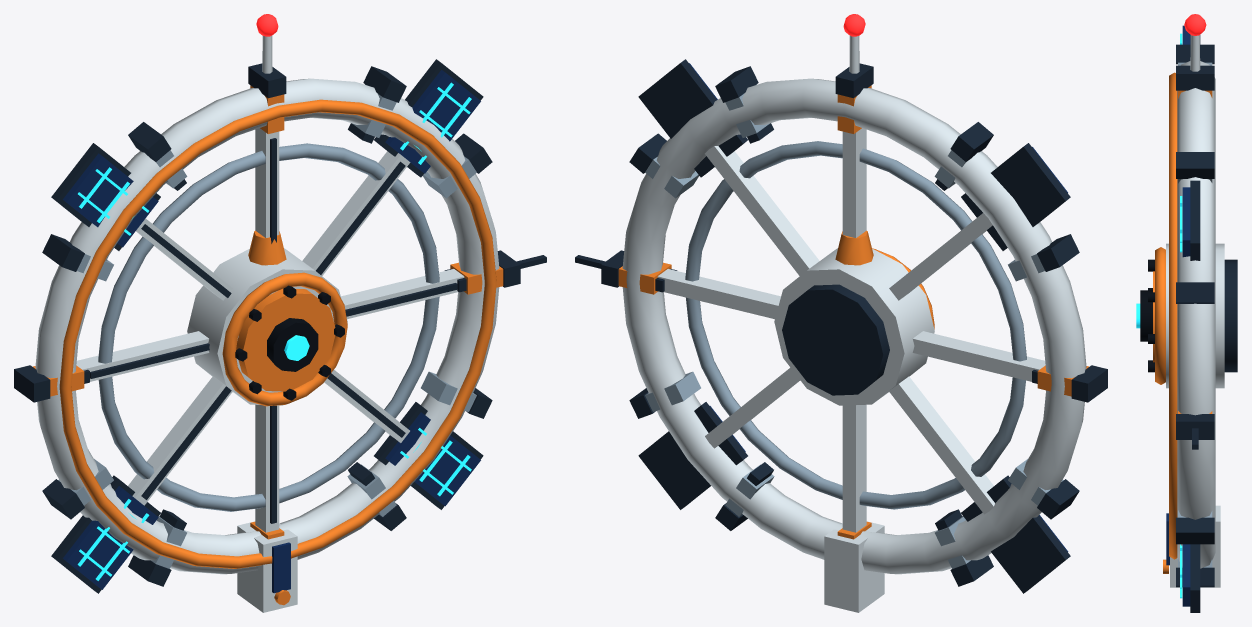
The model's file is asset.glb.
3 views of the same model, side by side, from view 1: azimuth 30°, elevation 25°; view 2: azimuth 150°, elevation 25°; view 3: azimuth 270°, elevation 25° (orthographic). The views are drawn at different scales.
Visible parts, largest first — view 1: Main_Orbital_Ring, Orange_Ring_Accent, Inner_Reinforcement_Ring, Front_Hub_Cap, Central_Communications_Hub, Hub_Safety_Band, Panel_Cells_3, Panel_Cells_1, Panel_Cells_2, Panel_Cells_4, Spoke_6, Spoke_2 (+30 smaller); view 2: Main_Orbital_Ring, Inner_Reinforcement_Ring, Rear_Hub_Cap, Central_Communications_Hub, Panel_Frame_1, Panel_Frame_3, Control_Module_Body, Spoke_6, Panel_Frame_2, Spoke_2, Panel_Frame_4, Spoke_7 (+15 smaller); view 3: Main_Orbital_Ring, Orange_Ring_Accent, Central_Communications_Hub, Rear_Hub_Cap, Hub_Safety_Band, Clamp_Cap_12, Clamp_Cap_3, Clamp_Cap_1, Clamp_Cap_4, Panel_Frame_1, Clamp_Cap_2, Control_Module_Body (+9 smaller).
Part boxes in pixels (left/top/right/bottom): Main_Orbital_Ring: left=35, top=78, right=499, bottom=574; Orange_Ring_Accent: left=59, top=99, right=496, bottom=568; Inner_Reinforcement_Ring: left=98, top=143, right=439, bottom=511; Front_Hub_Cap: left=236, top=288, right=335, bottom=391; Central_Communications_Hub: left=187, top=248, right=347, bottom=405; Hub_Safety_Band: left=222, top=272, right=347, bottom=406; Panel_Cells_3: left=63, top=486, right=158, bottom=589; Panel_Cells_1: left=385, top=70, right=480, bottom=173; Panel_Cells_2: left=63, top=153, right=158, bottom=247; Panel_Cells_4: left=385, top=412, right=480, bottom=506; Spoke_6: left=128, top=376, right=232, bottom=505; Spoke_2: left=302, top=151, right=410, bottom=275; Main_Orbital_Ring: left=622, top=78, right=1086, bottom=574; Inner_Reinforcement_Ring: left=685, top=141, right=1026, bottom=509; Rear_Hub_Cap: left=782, top=284, right=889, bottom=395; Central_Communications_Hub: left=774, top=248, right=934, bottom=405; Panel_Frame_1: left=638, top=59, right=747, bottom=177; Panel_Frame_3: left=961, top=475, right=1070, bottom=593; Control_Module_Body: left=824, top=521, right=884, bottom=612; Spoke_6: left=889, top=376, right=994, bottom=514; Panel_Frame_2: left=961, top=143, right=1070, bottom=250; Spoke_2: left=705, top=146, right=819, bottom=275; Panel_Frame_4: left=638, top=402, right=747, bottom=509; Spoke_7: left=842, top=404, right=866, bottom=532; Main_Orbital_Ring: left=1177, top=61, right=1215, bottom=568; Orange_Ring_Accent: left=1169, top=72, right=1177, bottom=559; Central_Communications_Hub: left=1166, top=243, right=1224, bottom=388; Rear_Hub_Cap: left=1224, top=259, right=1237, bottom=372; Hub_Safety_Band: left=1155, top=247, right=1165, bottom=384; Clamp_Cap_12: left=1176, top=517, right=1214, bottom=544; Clamp_Cap_3: left=1176, top=152, right=1214, bottom=178; Clamp_Cap_1: left=1176, top=414, right=1214, bottom=439; Clamp_Cap_4: left=1176, top=65, right=1214, bottom=90; Panel_Frame_1: left=1190, top=180, right=1200, bottom=260; Clamp_Cap_2: left=1176, top=282, right=1214, bottom=303; Control_Module_Body: left=1170, top=505, right=1220, bottom=587.
Size of the model in its own units: 5.76 by 6.17 by 1.
